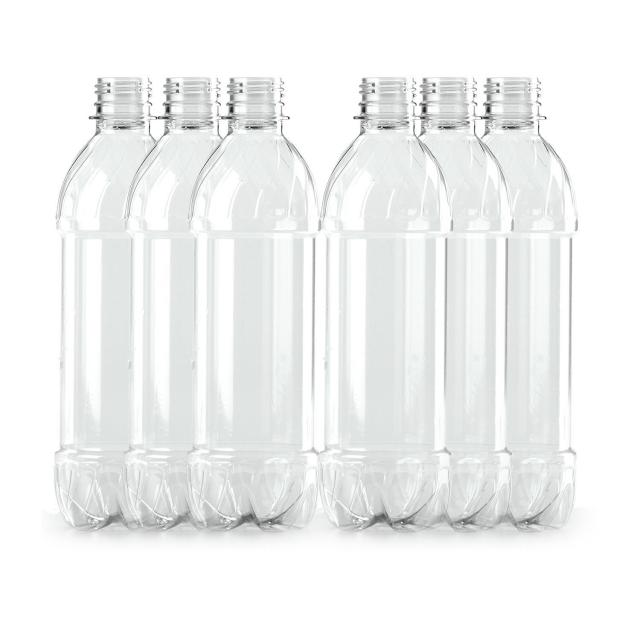plastic_bottle: (321, 67, 454, 537), (466, 67, 588, 532), (206, 73, 322, 540), (400, 64, 515, 531), (58, 77, 160, 518), (129, 70, 208, 532)
